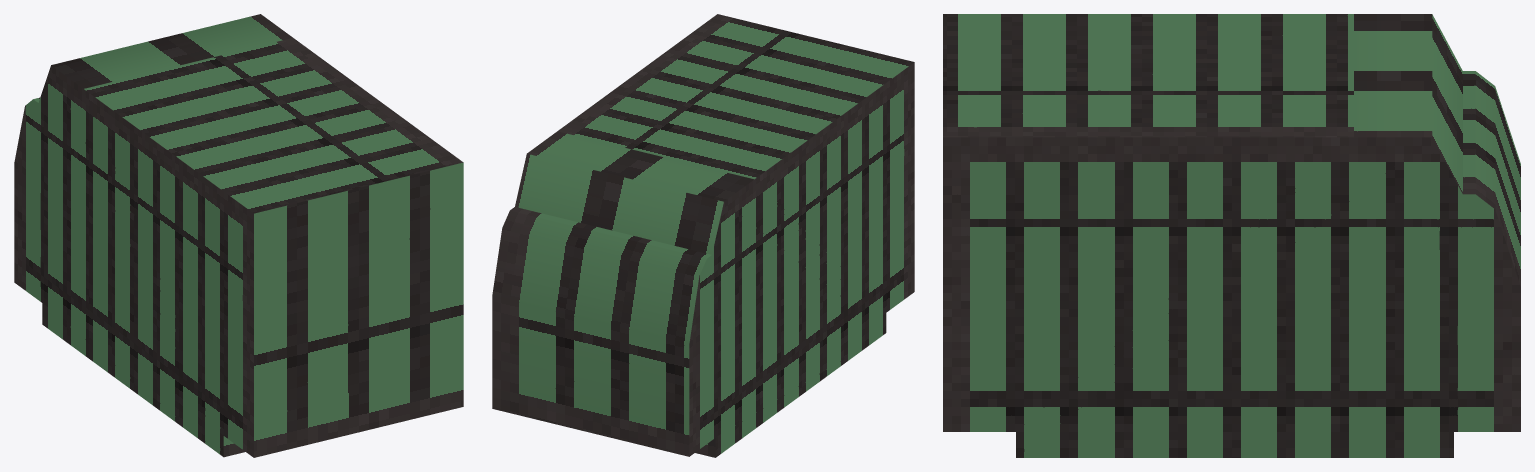
Rendered from truck_grey.glb.
3 renders of one model, left to right at view 1: azimuth 30°, elevation 25°; view 2: azimuth 150°, elevation 25°; view 3: azimuth 270°, elevation 25°, orthographic. The views are drawn at different scales.
Parts seen in each view (by area): view 1: truck-grey; view 2: truck-grey; view 3: truck-grey.
Part boxes in pixels (<box>): truck-grey: <box>14,14,463,457</box>; truck-grey: <box>492,14,914,457</box>; truck-grey: <box>943,14,1520,457</box>.
Size of the model in its own units: 0.83 by 1.01 by 1.64.
Materials: 1 (1 with a texture image).
